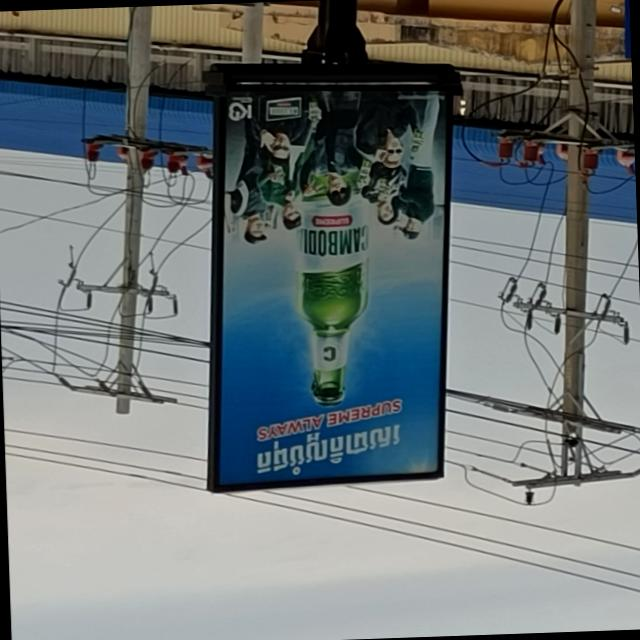Yolov11_80vkh: (251, 414, 410, 487)
